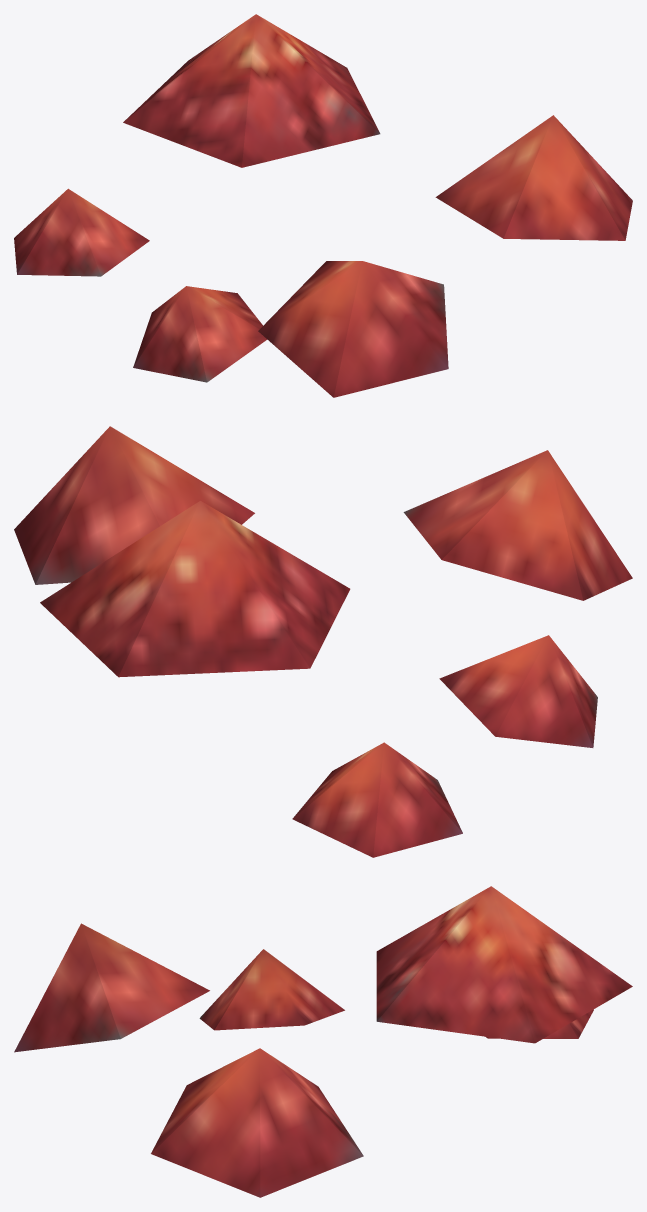
Rendered from Shrooms3.fbx.
The picture shows the model from 3 angles, top to bottom: view 1: azimuth 30°, elevation 25°; view 2: azimuth 150°, elevation 25°; view 3: azimuth 270°, elevation 25°; orthographic projection. The views are drawn at different scales.
Visible parts, largest first — view 1: Shrooms3; view 2: Shrooms3; view 3: Shrooms3.
Part boxes in pixels (box(x1,y1,x2,y2)): Shrooms3: box(14, 14, 632, 397); Shrooms3: box(14, 426, 632, 857); Shrooms3: box(14, 886, 632, 1197).
Size of the model in its own units: 3.91 by 4.08 by 1.7.
